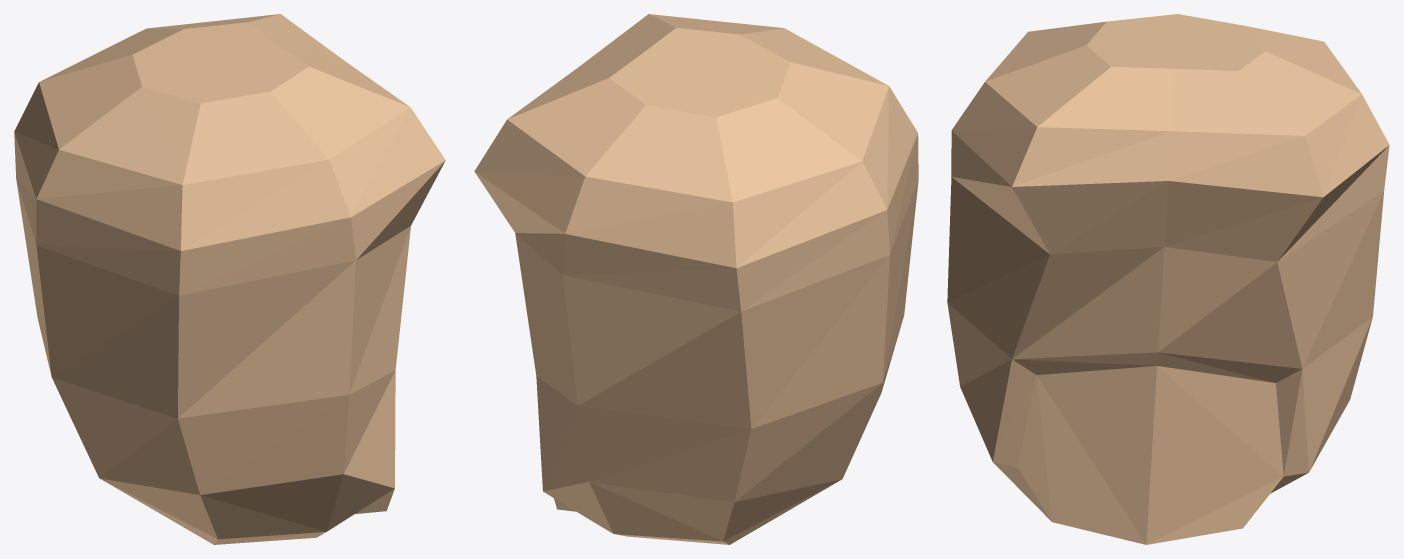
Rendered from LFing42_mesh.dae.
3 views of the same model, side by side, from view 1: azimuth 30°, elevation 25°; view 2: azimuth 150°, elevation 25°; view 3: azimuth 270°, elevation 25° (orthographic).
Visible parts, largest first — view 1: LFing42; view 2: LFing42; view 3: LFing42.
Part boxes in pixels (x1,y1,x2,y2): LFing42: [14, 14, 445, 544]; LFing42: [474, 14, 918, 544]; LFing42: [947, 14, 1389, 544].
Bounding box in the file's own units: 0.0132 × 0.0179 × 0.0152.
